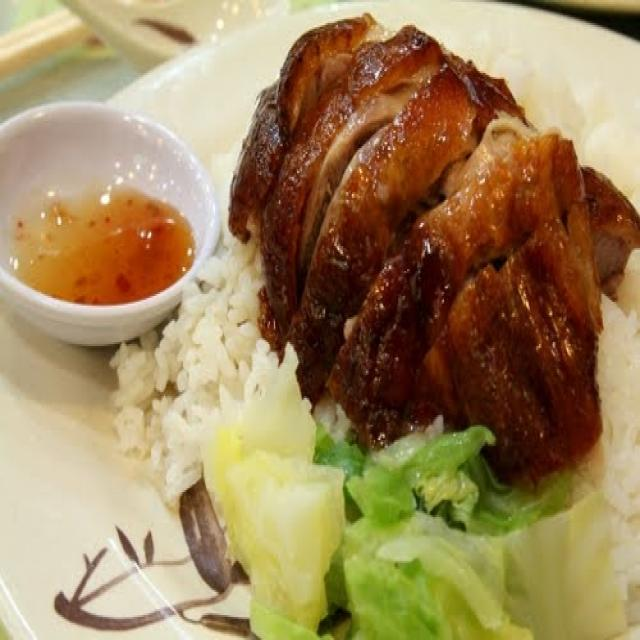米饭主食: (25, 12, 635, 609)
